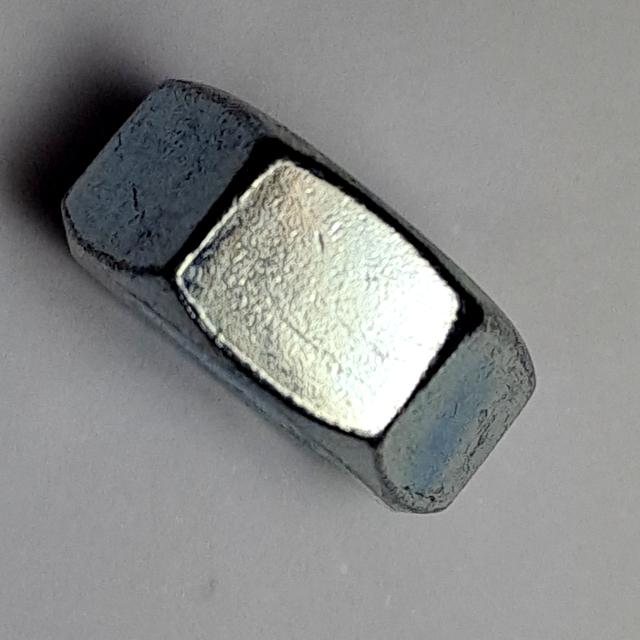Side_Excellent: (53, 68, 556, 528)
